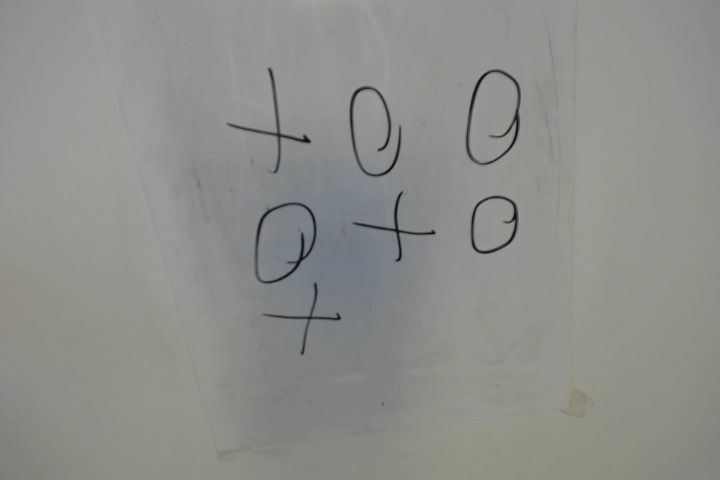0: (466, 65, 522, 173), (344, 82, 405, 179), (253, 200, 318, 285), (466, 193, 519, 255)
x: (236, 72, 310, 175), (356, 195, 433, 267), (270, 291, 349, 353)
